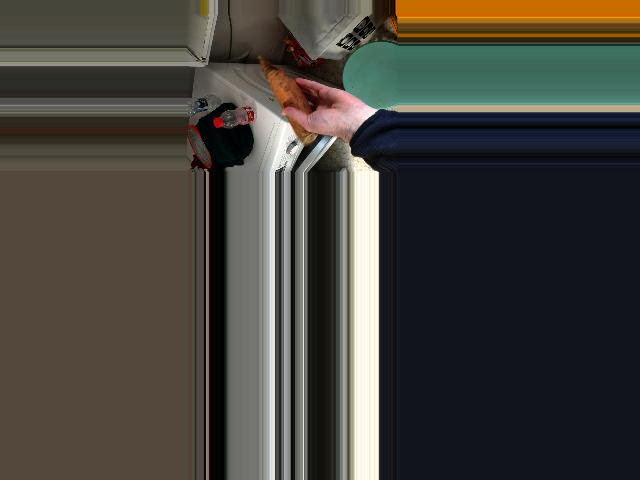sweet_potato: (265, 76, 311, 124)
